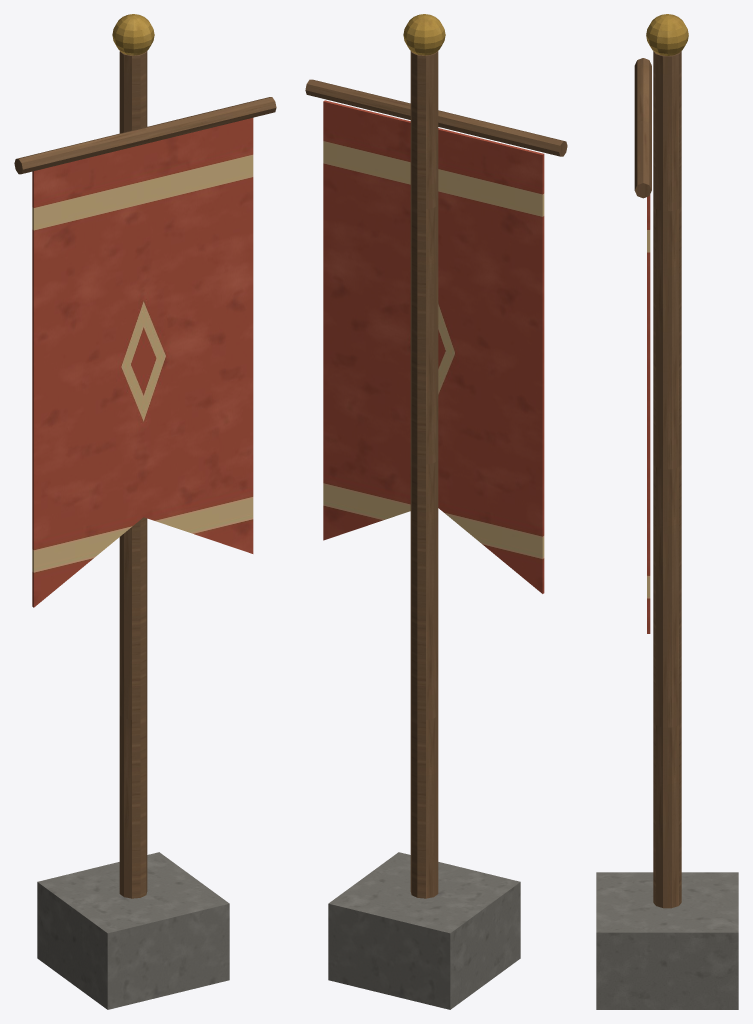
Rendered from banner-pole.glb.
3 views of the same model, side by side, from view 1: azimuth 30°, elevation 25°; view 2: azimuth 150°, elevation 25°; view 3: azimuth 270°, elevation 25° (orthographic).
Visible parts, largest first — view 1: BannerPole_cloth, BannerPole_granite, BannerPole_oak, BannerPole_gold; view 2: BannerPole_cloth, BannerPole_oak, BannerPole_granite, BannerPole_gold; view 3: BannerPole_oak, BannerPole_granite, BannerPole_cloth, BannerPole_gold.
Part boxes in pixels (bbox=[...]): BannerPole_cloth: bbox=[32, 118, 253, 607]; BannerPole_granite: bbox=[37, 852, 229, 1009]; BannerPole_oak: bbox=[14, 51, 276, 898]; BannerPole_gold: bbox=[112, 14, 154, 55]; BannerPole_cloth: bbox=[323, 100, 544, 593]; BannerPole_oak: bbox=[305, 51, 567, 898]; BannerPole_granite: bbox=[328, 852, 520, 1009]; BannerPole_gold: bbox=[403, 14, 445, 55]; BannerPole_oak: bbox=[634, 51, 681, 908]; BannerPole_granite: bbox=[596, 872, 738, 1009]; BannerPole_cloth: bbox=[647, 194, 650, 633]; BannerPole_gold: bbox=[646, 14, 688, 55].
Bounding box in the file's own units: 1.04 × 3.73 × 0.5.
Materials: 4 (4 with a texture image).
